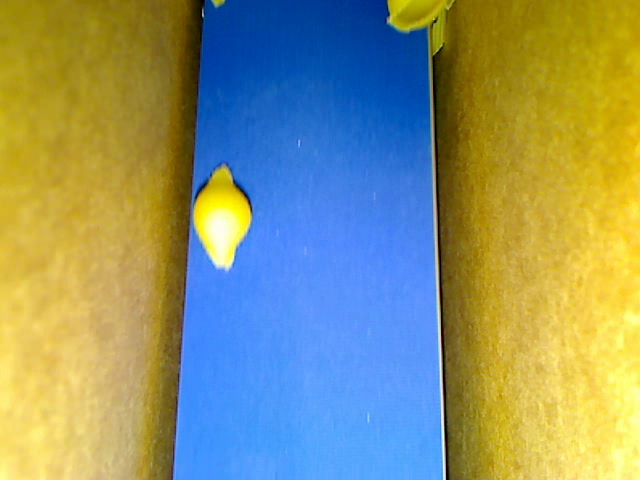penne: (430, 1, 446, 61)
shell: (187, 164, 255, 271), (384, 1, 448, 33)
